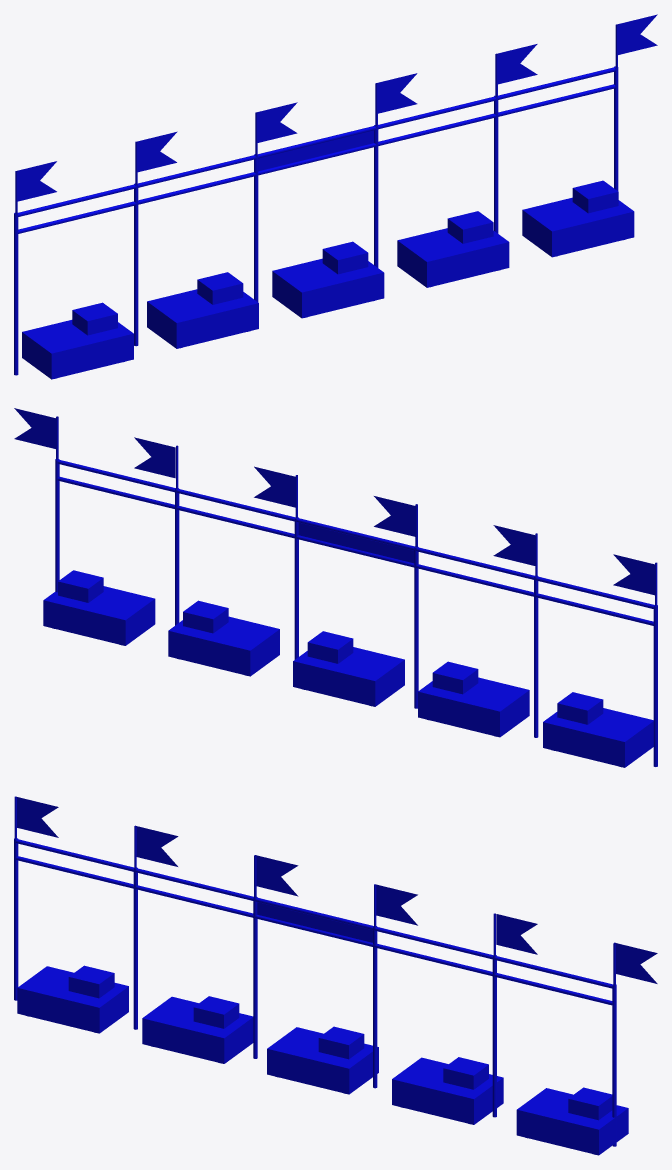
File: pooja ghat (aarti).fbx
The picture shows the model from 3 angles, top to bottom: view 1: azimuth 30°, elevation 25°; view 2: azimuth 150°, elevation 25°; view 3: azimuth 330°, elevation 25°; orthographic projection.
Visible parts, largest first — view 1: POOJA GHAT; view 2: POOJA GHAT; view 3: POOJA GHAT.
Part boxes in pixels (x1,y1,x2,y2): POOJA GHAT: [14, 14, 657, 379]; POOJA GHAT: [14, 408, 657, 767]; POOJA GHAT: [14, 796, 657, 1155].
Size of the model in its own units: 1719 by 518 by 137.
